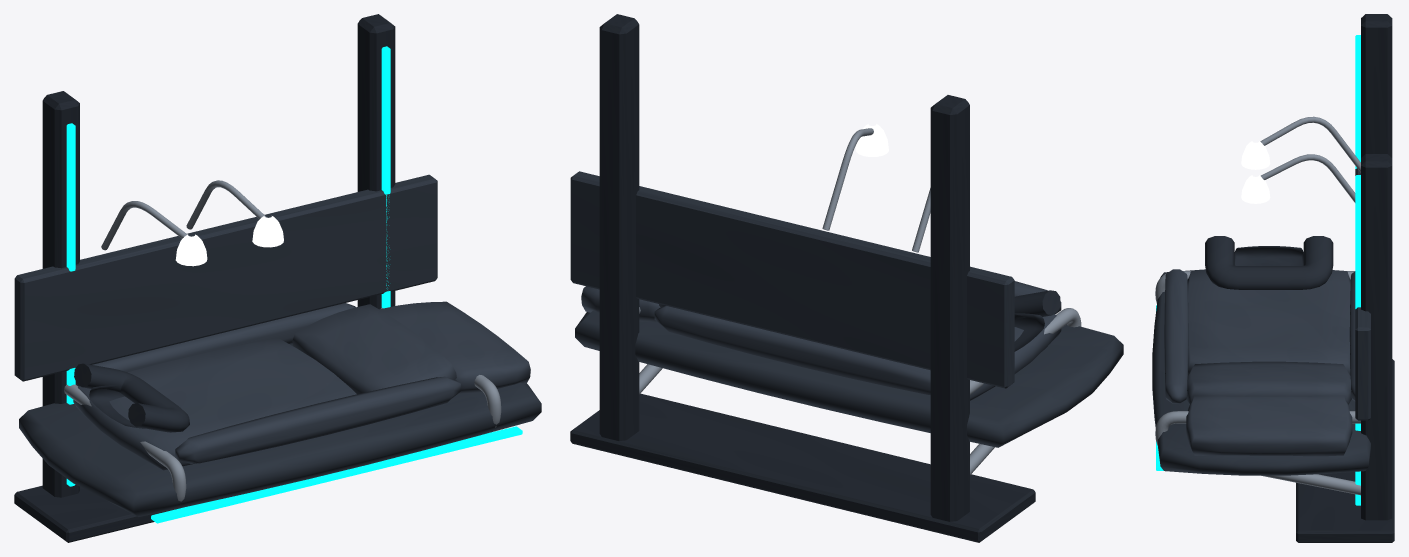
Rendered from bunk_r1_03.glb.
3 renders of one model, left to right at view 1: azimuth 30°, elevation 25°; view 2: azimuth 150°, elevation 25°; view 3: azimuth 270°, elevation 25°, orthographic. The views are drawn at different scales.
Visible parts, largest first — view 1: MagCouchette_CarbonAerodynamicSled, MagCouchette_TechGreyFlightPad, MagCouchette_VerticalGuideColumns, MagCouchette_CyanMagIndicators, MagCouchette_CharcoalCranialCradle, MagCouchette_TitaniumStrutsAndArms, MagCouchette_SurgicalTaskLights; view 2: MagCouchette_CarbonAerodynamicSled, MagCouchette_VerticalGuideColumns, MagCouchette_TechGreyFlightPad, MagCouchette_TitaniumStrutsAndArms, MagCouchette_CharcoalCranialCradle, MagCouchette_SurgicalTaskLights; view 3: MagCouchette_TechGreyFlightPad, MagCouchette_VerticalGuideColumns, MagCouchette_CarbonAerodynamicSled, MagCouchette_CharcoalCranialCradle, MagCouchette_TitaniumStrutsAndArms, MagCouchette_CyanMagIndicators, MagCouchette_SurgicalTaskLights.
Part boxes in pixels (x1,y1,x2,y2): MagCouchette_CarbonAerodynamicSled: (14,174,541,516); MagCouchette_TechGreyFlightPad: (73,301,530,470); MagCouchette_VerticalGuideColumns: (14,14,395,542); MagCouchette_CyanMagIndicators: (66,46,522,523); MagCouchette_CharcoalCranialCradle: (74,363,189,432); MagCouchette_TitaniumStrutsAndArms: (64,180,501,501); MagCouchette_SurgicalTaskLights: (175,216,283,266); MagCouchette_CarbonAerodynamicSled: (570,171,1123,447); MagCouchette_VerticalGuideColumns: (570,14,1035,542); MagCouchette_TechGreyFlightPad: (581,281,1061,400); MagCouchette_TitaniumStrutsAndArms: (639,128,1081,475); MagCouchette_CharcoalCranialCradle: (1014,290,1060,351); MagCouchette_SurgicalTaskLights: (856,124,888,156); MagCouchette_TechGreyFlightPad: (1164,269,1355,456); MagCouchette_VerticalGuideColumns: (1296,14,1394,542); MagCouchette_CarbonAerodynamicSled: (1152,168,1370,475); MagCouchette_CharcoalCranialCradle: (1205,236,1333,289); MagCouchette_TitaniumStrutsAndArms: (1155,116,1360,495); MagCouchette_CyanMagIndicators: (1156,35,1360,505); MagCouchette_SurgicalTaskLights: (1241,141,1270,203).
Bounding box in the file's own units: 2.06 × 1.82 × 1.08.
7 materials, 7 textured.
